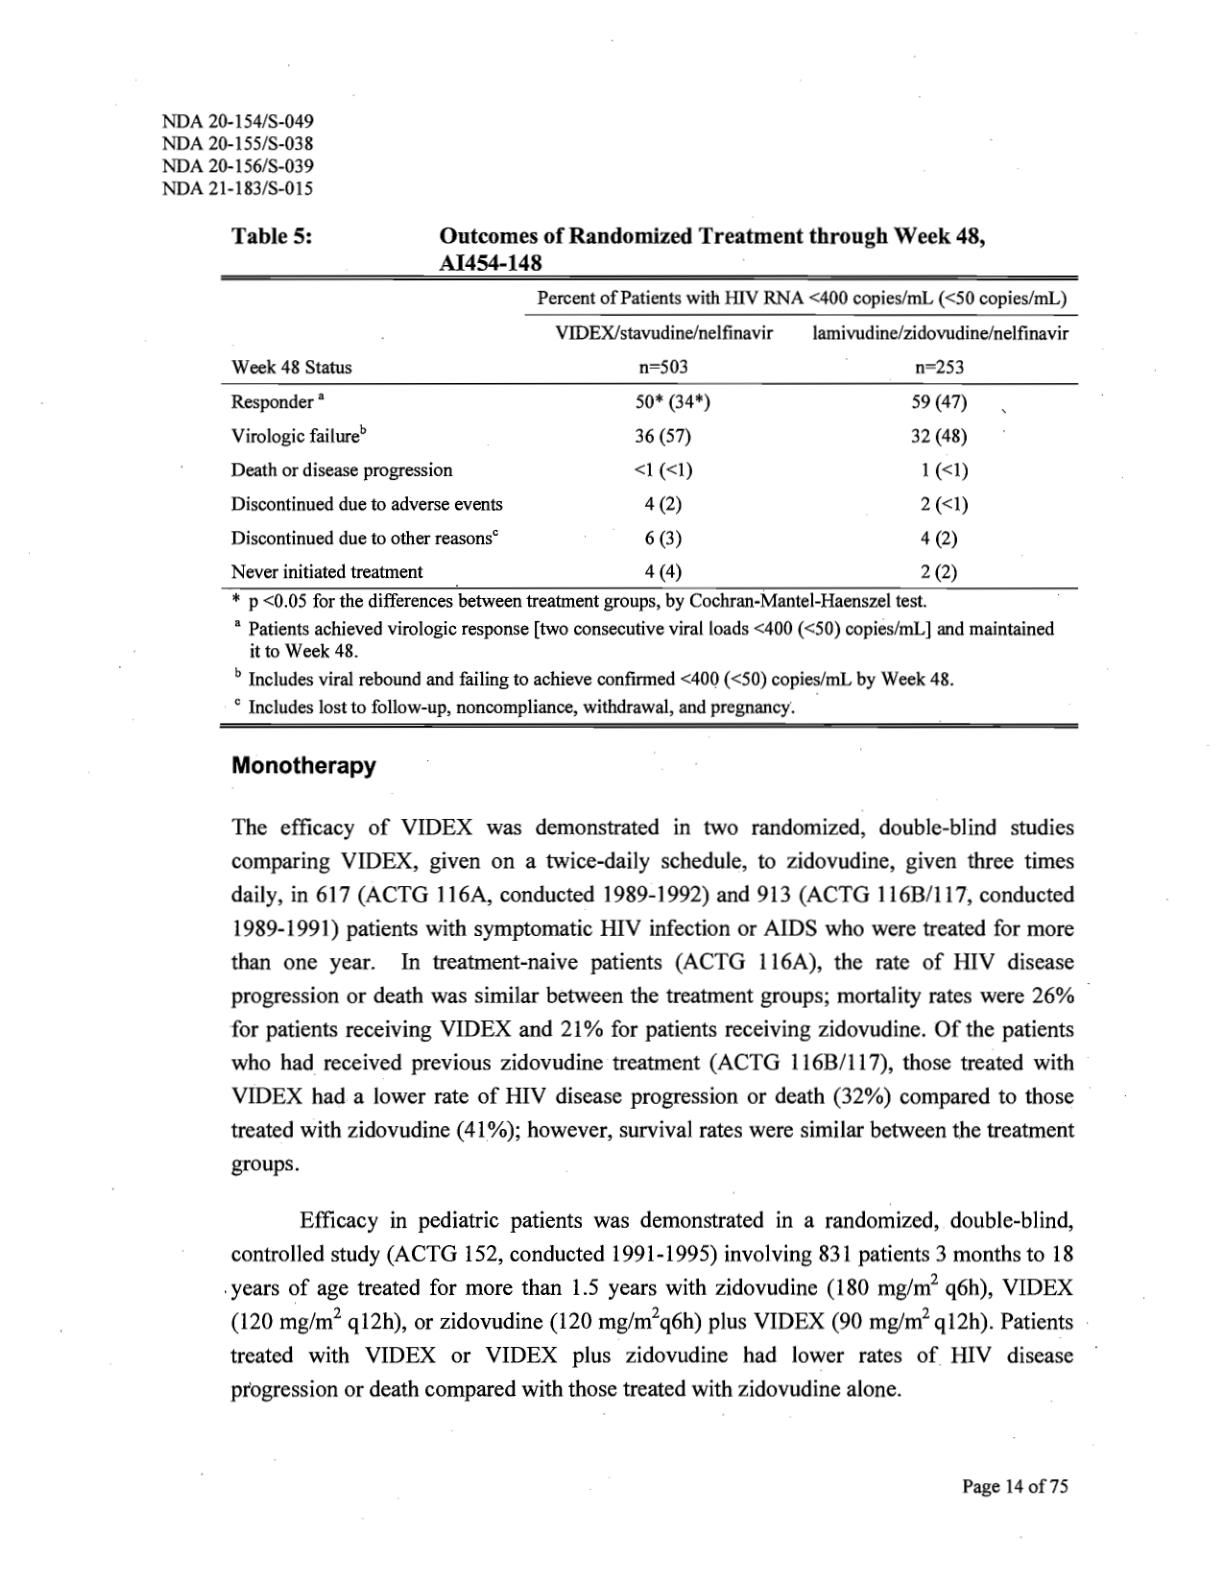partial_lined_merged_cells: (222, 276, 1082, 593)
